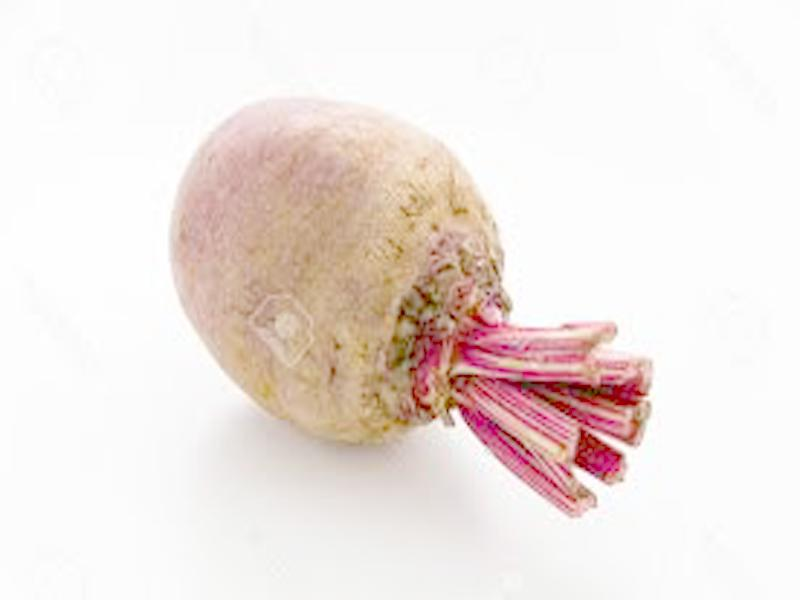Beet: (167, 95, 651, 521)
